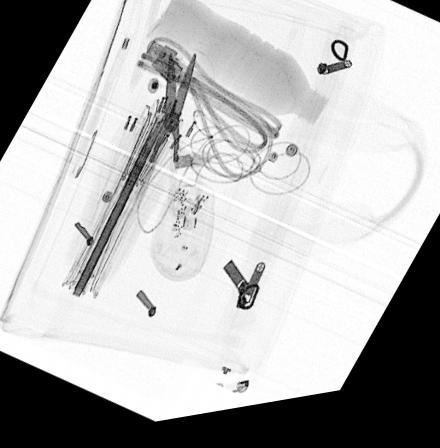Scissors: (109, 55, 204, 226)
